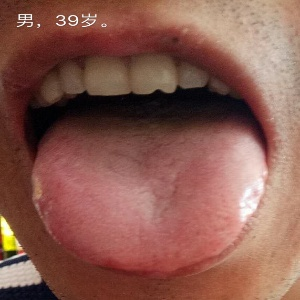st: (30, 124, 272, 276)
